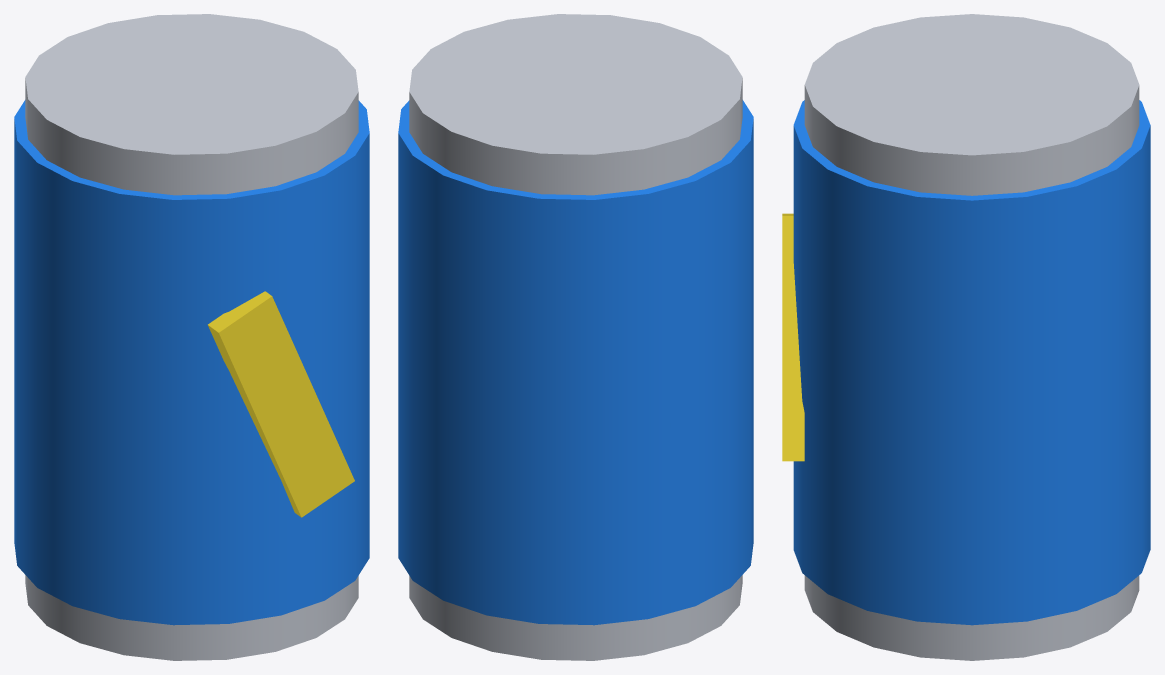
File: can.glb
The picture shows the model from 3 angles, left to right: view 1: azimuth 30°, elevation 25°; view 2: azimuth 150°, elevation 25°; view 3: azimuth 270°, elevation 25°; orthographic projection.
Visible parts, largest first — view 1: Body, Top, Bolt, Bottom; view 2: Body, Top, Bottom; view 3: Body, Top, Bottom, Bolt.
Boxes of the visible parts, left/top/right/bottom form: Body: left=14, top=100, right=369, bottom=625; Top: left=25, top=14, right=358, bottom=195; Bolt: left=208, top=291, right=354, bottom=517; Bottom: left=25, top=575, right=358, bottom=660; Body: left=398, top=100, right=753, bottom=625; Top: left=409, top=14, right=742, bottom=195; Bottom: left=409, top=575, right=742, bottom=660; Body: left=793, top=100, right=1150, bottom=625; Top: left=804, top=14, right=1139, bottom=195; Bottom: left=804, top=575, right=1139, bottom=660; Bolt: left=782, top=213, right=804, bottom=461.
Bounding box in the file's own units: 0.32 × 0.5 × 0.33.
